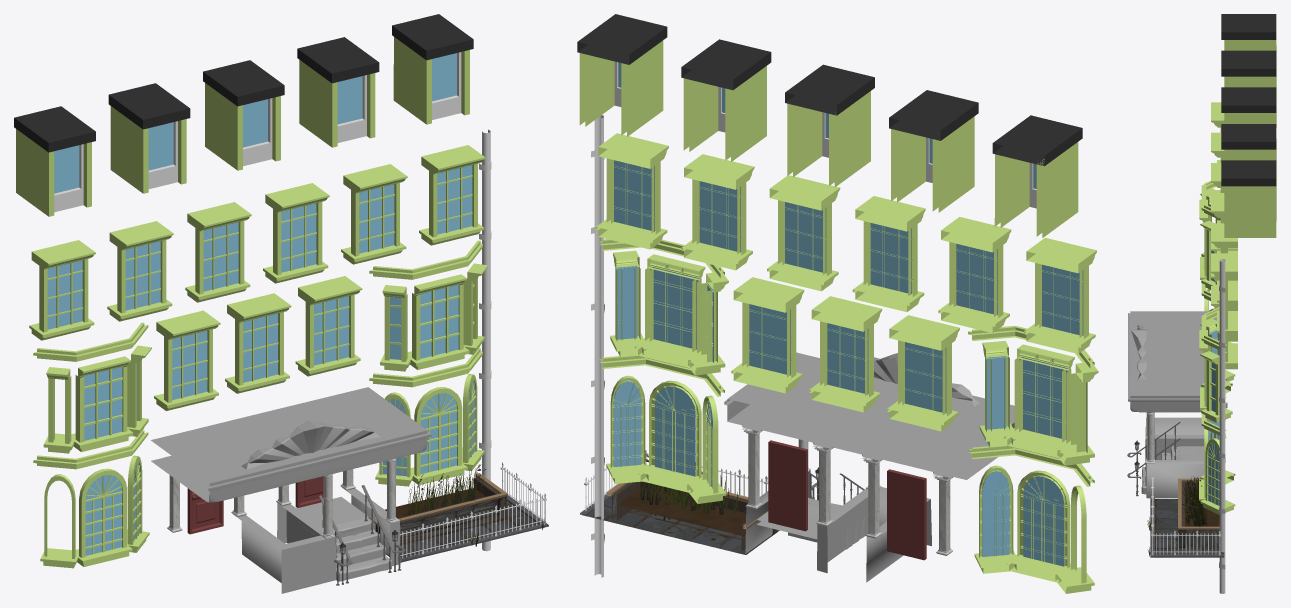
File: Empty_BuildingSide_L.fbx
The picture shows the model from 3 angles, left to right: view 1: azimuth 30°, elevation 25°; view 2: azimuth 150°, elevation 25°; view 3: azimuth 270°, elevation 25°; orthographic projection. The views are drawn at different scales.
Visible parts, largest first — view 1: Windows_Roof, MESH_Roof, Windows_03.001, Windows_03, Walls_Low, Windows_04, Windows_02.009, Windows_02.005, Windows_02.010, Windows_02.011, Windows_02.014, Windows_02.012 (+34 smaller); view 2: Windows_Roof, MESH_Roof, Windows_03, Windows_03.001, Windows_04, geo_Masonry_Ornament7_J, Walls_Low, Regenpijp, Windows_02.013, Windows_02.010, Windows_02.012, Windows_02.015 (+35 smaller); view 3: Windows_Roof, MESH_Roof, Walls_Low, Regenpijp, Windows_03, Gravel_R, Windows_03.001, Windows_02.013, geo_Masonry_Ornament7_J, Fence_L, Planter_Box_R, Windows_02.012 (+14 smaller).
Boxes of the visible parts, x1,y1,x2,y2 form: Windows_Roof: (14,14,473,216); MESH_Roof: (151,387,431,502); Windows_03.001: (33,322,151,469); Windows_03: (369,240,487,387); Walls_Low: (233,487,400,593); Windows_04: (40,455,149,568); Windows_02.009: (107,221,173,321); Windows_02.005: (29,240,95,340); Windows_02.010: (185,202,251,302); Windows_02.011: (263,183,329,283); Windows_02.014: (295,276,362,376); Windows_02.012: (341,164,407,264); Windows_Roof: (577,14,1082,237); MESH_Roof: (724,352,1014,479); Windows_03: (598,239,728,396); Windows_03.001: (968,325,1098,486); Windows_04: (974,465,1094,593); geo_Masonry_Ornament7_J: (606,375,726,503); Walls_Low: (745,470,931,582); Regenpijp: (591,115,604,577); Windows_02.013: (596,133,668,249); Windows_02.010: (852,196,925,311); Windows_02.012: (681,154,754,270); Windows_02.015: (809,296,882,412); Windows_Roof: (1221,14,1276,237); MESH_Roof: (1128,311,1216,412); Walls_Low: (1145,417,1207,498); Regenpijp: (1219,259,1225,593); Windows_03: (1199,307,1232,438); Gravel_R: (1155,499,1224,554); Windows_03.001: (1199,180,1220,300); Windows_02.013: (1211,253,1237,336); geo_Masonry_Ornament7_J: (1199,419,1235,514); Fence_L: (1151,477,1220,555); Planter_Box_R: (1181,481,1219,547); Windows_02.012: (1211,223,1237,306).
Bounding box in the file's own units: 798 × 837 × 277.
